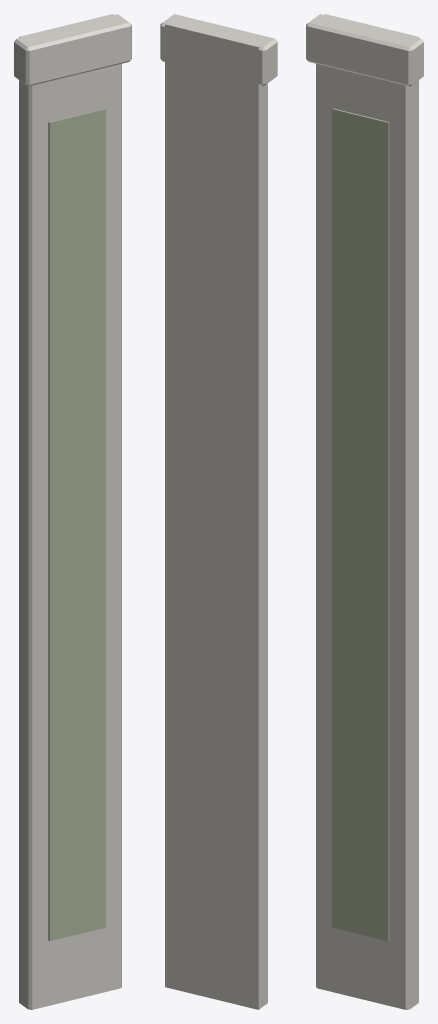
The model's file is pilaster_u_b.glb.
The picture shows the model from 3 angles, left to right: view 1: azimuth 30°, elevation 25°; view 2: azimuth 150°, elevation 25°; view 3: azimuth 330°, elevation 25°; orthographic projection.
Parts seen in each view (by area): view 1: pilaster_u_b_trim, pilaster_u_b_acc_b; view 2: pilaster_u_b_trim; view 3: pilaster_u_b_trim, pilaster_u_b_acc_b.
Boxes of the visible parts, x1,y1,x2,y2 form: pilaster_u_b_trim: (14,14,131,1009); pilaster_u_b_acc_b: (48,108,105,941); pilaster_u_b_trim: (160,14,277,1009); pilaster_u_b_trim: (306,14,423,1009); pilaster_u_b_acc_b: (332,108,389,941).
Size of the model in its own units: 0.34 by 2.95 by 0.08.
